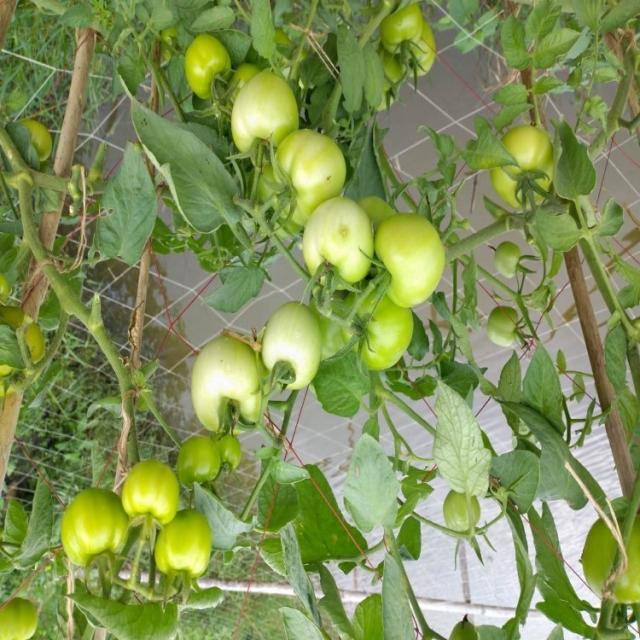tomato: (185, 333, 293, 459), (262, 101, 346, 228), (371, 208, 446, 325), (305, 195, 388, 299), (353, 292, 436, 383), (56, 487, 136, 581), (105, 464, 200, 542), (232, 62, 308, 154), (383, 7, 456, 101), (264, 294, 332, 392), (583, 505, 640, 616), (488, 125, 559, 214), (153, 498, 215, 585), (177, 26, 241, 105), (185, 420, 244, 498), (1, 583, 46, 640), (472, 312, 527, 358), (443, 481, 487, 535), (498, 240, 533, 291)
